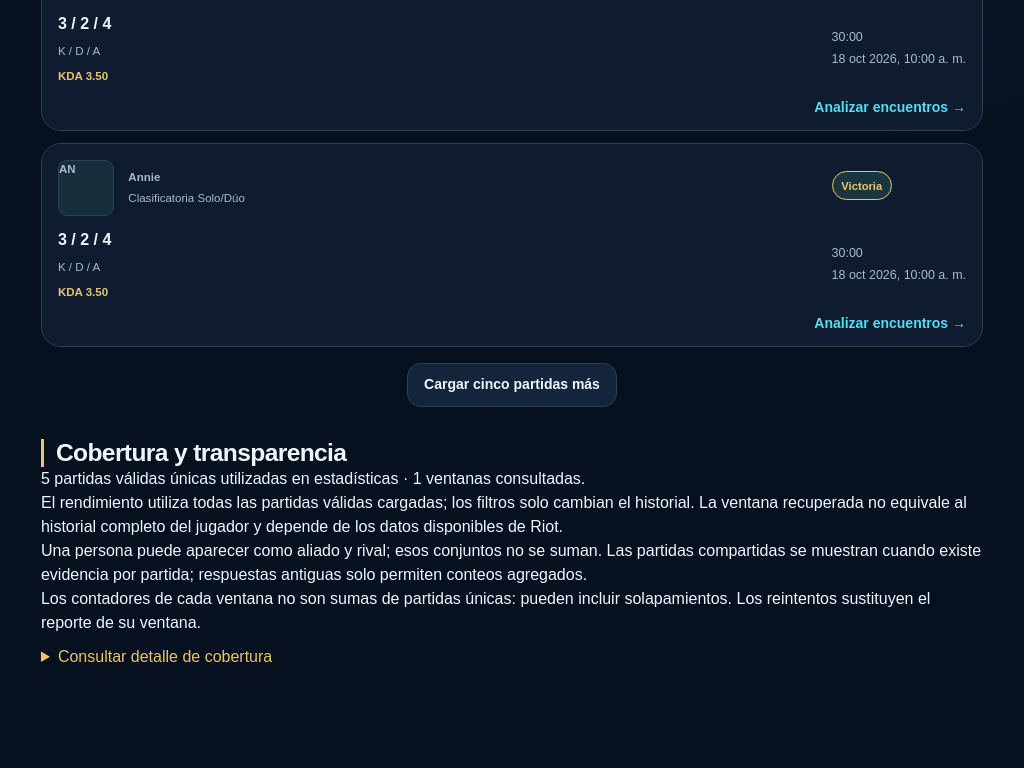
Test: dashboard pagination retries partial and failed windows, deduplicates IDs, and stops at exhaustion
(page scrolled)
Step 1. Click the button "Cargar cinco partidas más" → (512, 385), box [407,363,617,407]
(page scrolled)
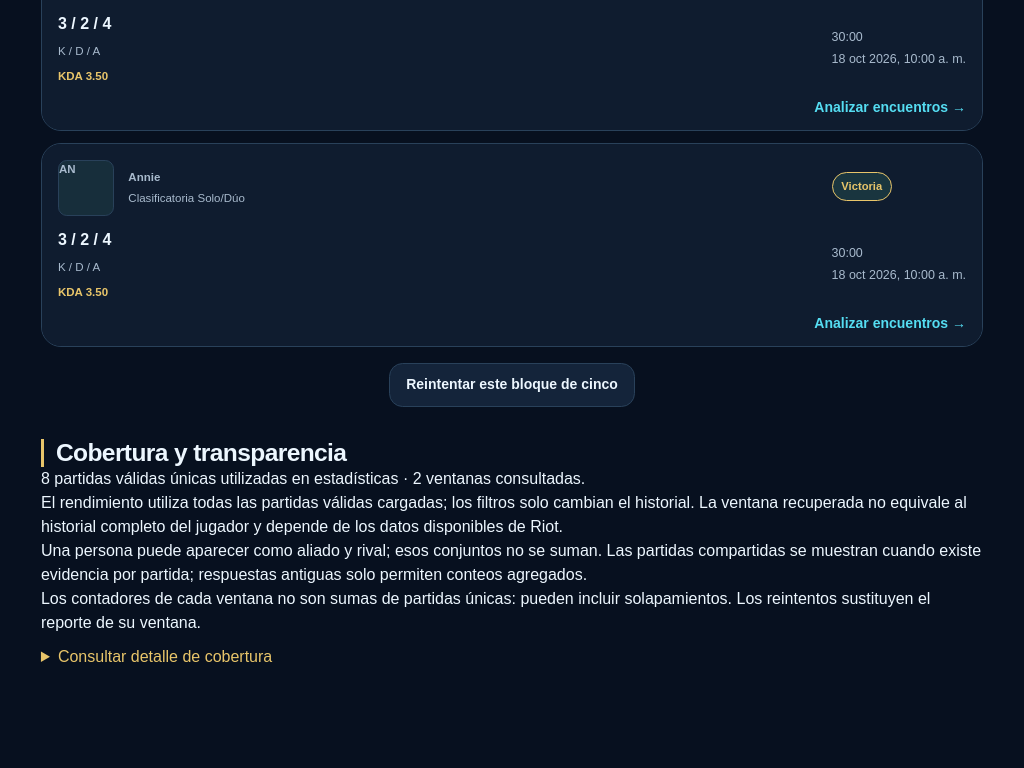
Now the button "Reintentar este bloque de cinco" is shown
Step 2. Click the button "Reintentar este bloque de cinco" → (512, 385), box [389,363,635,407]
(page scrolled)
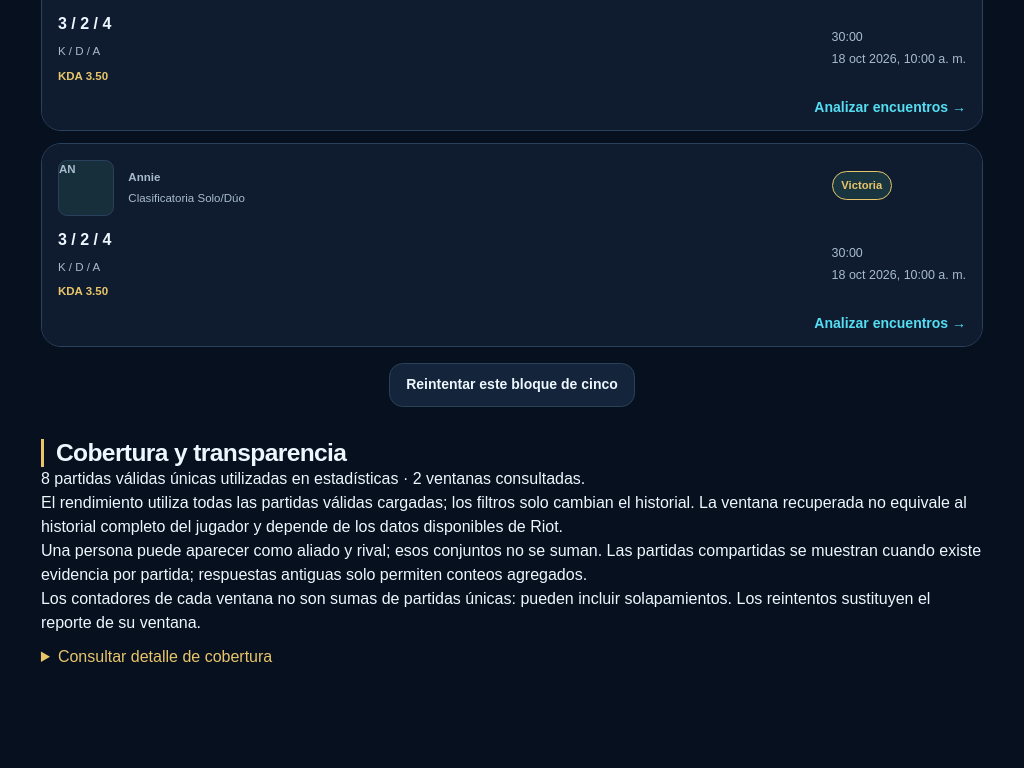
Now the button "Reintentar este bloque de cinco" is shown
Step 3. Click the button "Reintentar este bloque de cinco" → (512, 385), box [389,363,635,407]
(page scrolled)
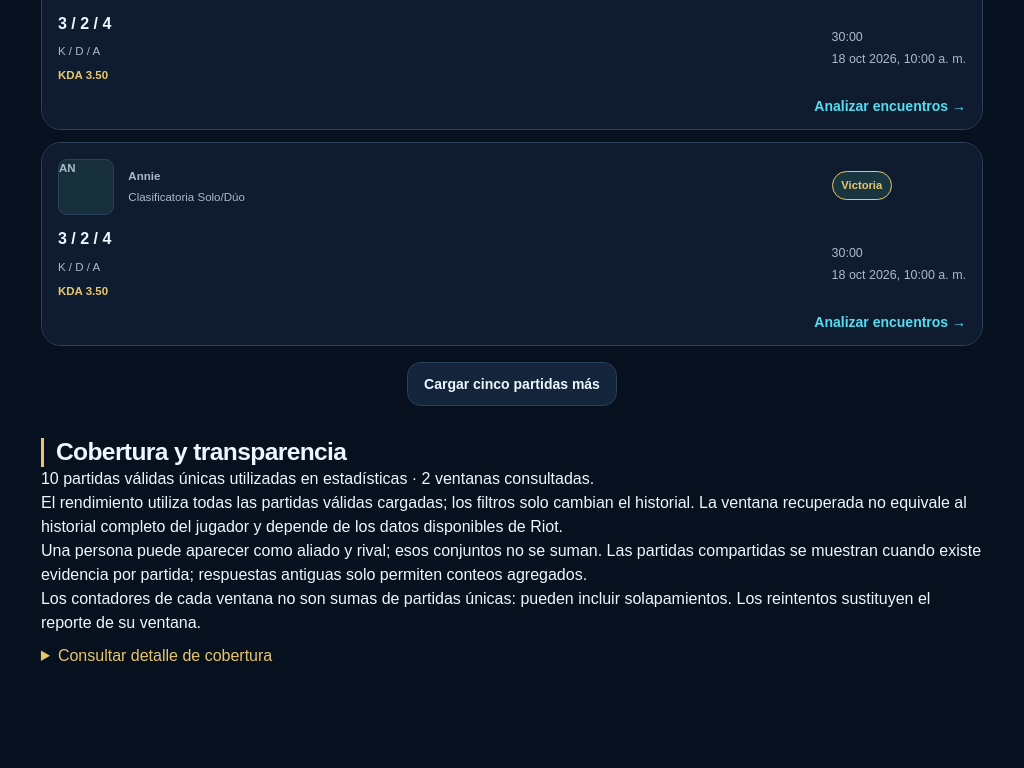
Step 4. Click the button "Cargar cinco partidas más" → (512, 384), box [407,362,617,406]
(page scrolled)
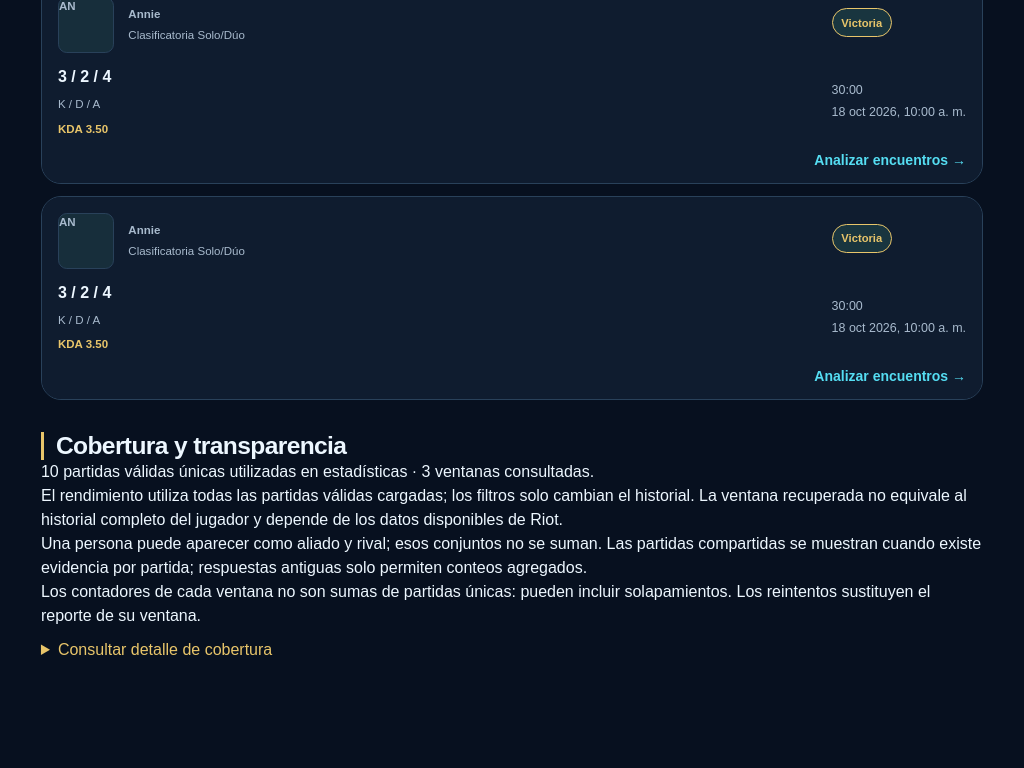
Now the button "Cargar cinco partidas más" is gone
